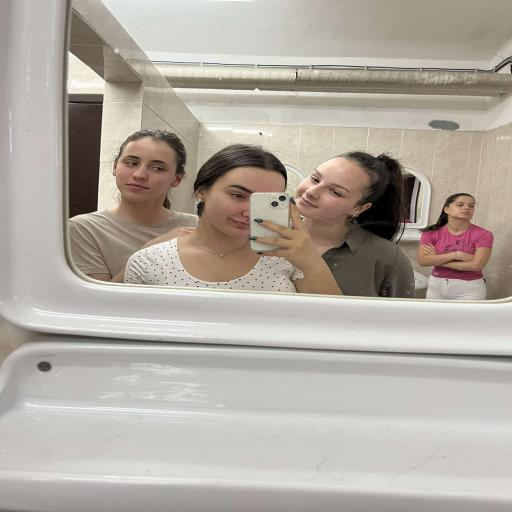marija: (298, 158, 373, 218)
masa: (116, 138, 178, 204)
